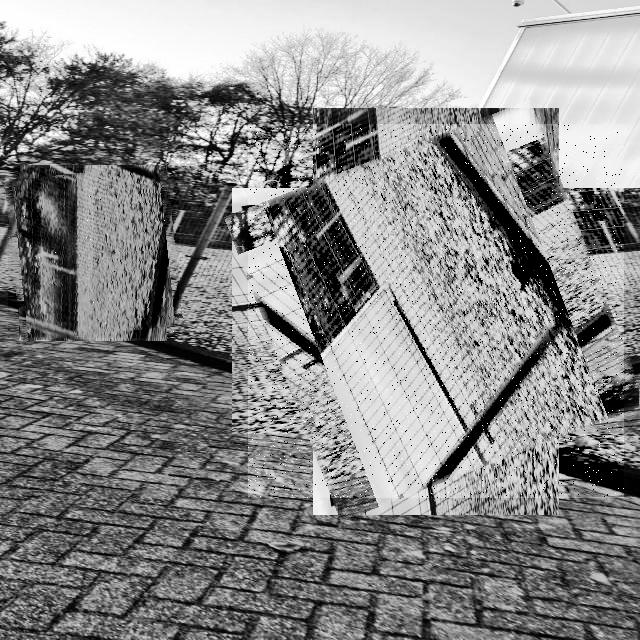fences: (248, 124, 624, 498), (8, 168, 179, 338)
